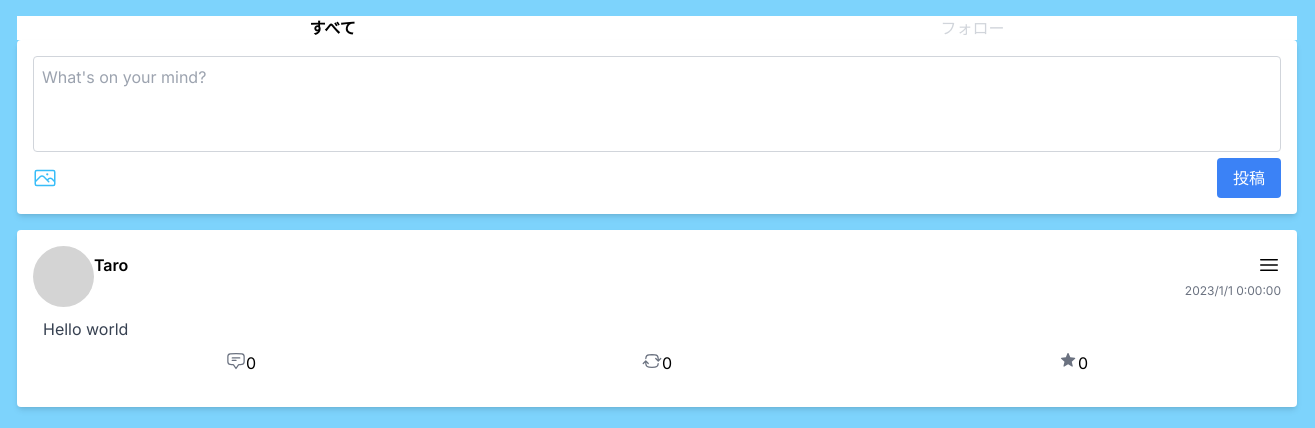
Test: タイムライン表示 › 投稿がない場合、何も投稿がありませんと表示されるか
Click the button with aria-label "following-only": (972, 28) [940,16,1004,40]
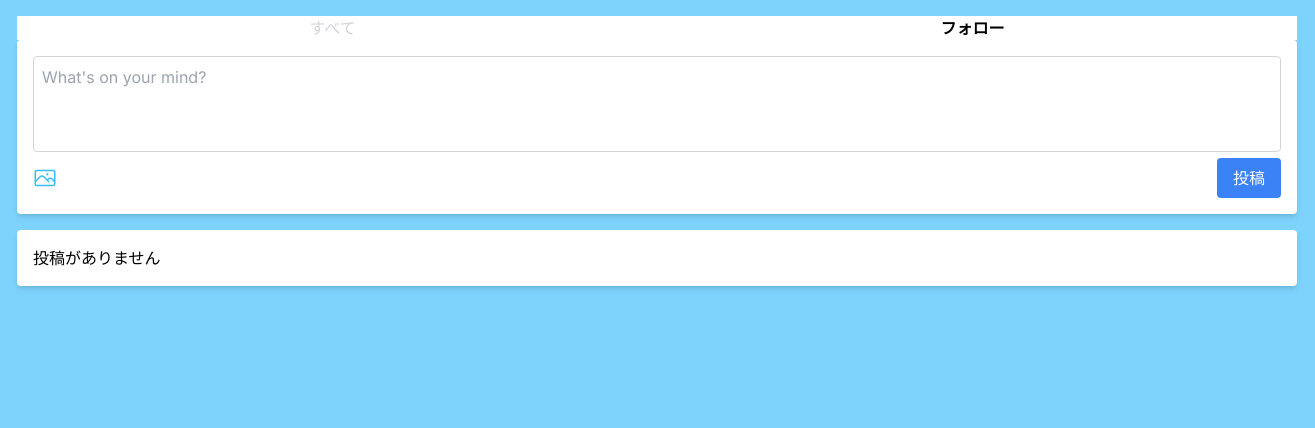
Now the text "投稿がありません" is shown, box [33,248,160,268]
